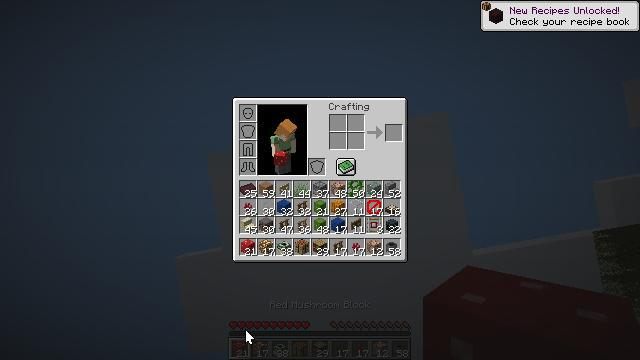cursor: (245, 329, 255, 345)
